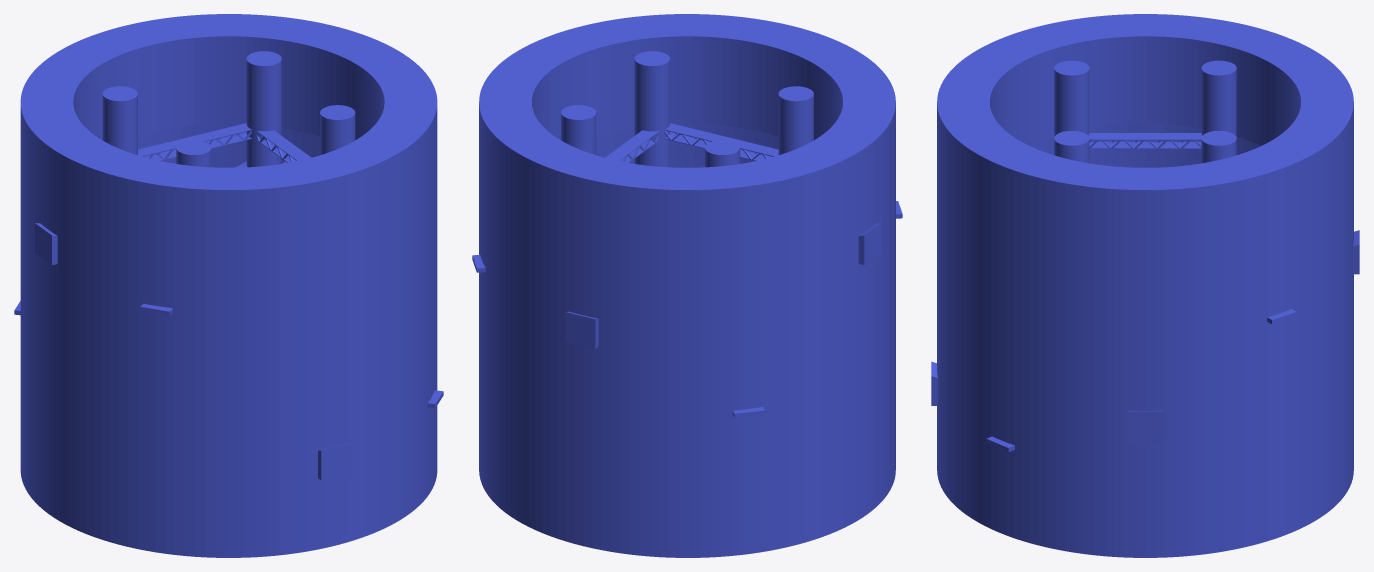
Rendered from Spire1Collider.fbx.
3 renders of one model, left to right at view 1: azimuth 30°, elevation 25°; view 2: azimuth 150°, elevation 25°; view 3: azimuth 270°, elevation 25°, orthographic.
Parts seen in each view (by area): view 1: Bunker.009; view 2: Bunker.009; view 3: Bunker.009.
Part boxes in pixels (x1=…): Bunker.009: x1=14, y1=14, x2=443, y2=557; Bunker.009: x1=472, y1=14, x2=902, y2=557; Bunker.009: x1=931, y1=14, x2=1359, y2=557.
Size of the model in its own units: 2071 by 1995 by 2071.
